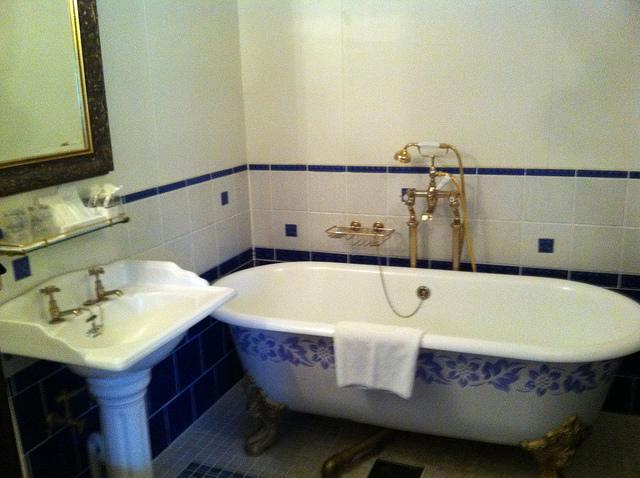Lavamanos: (0, 243, 238, 379)
